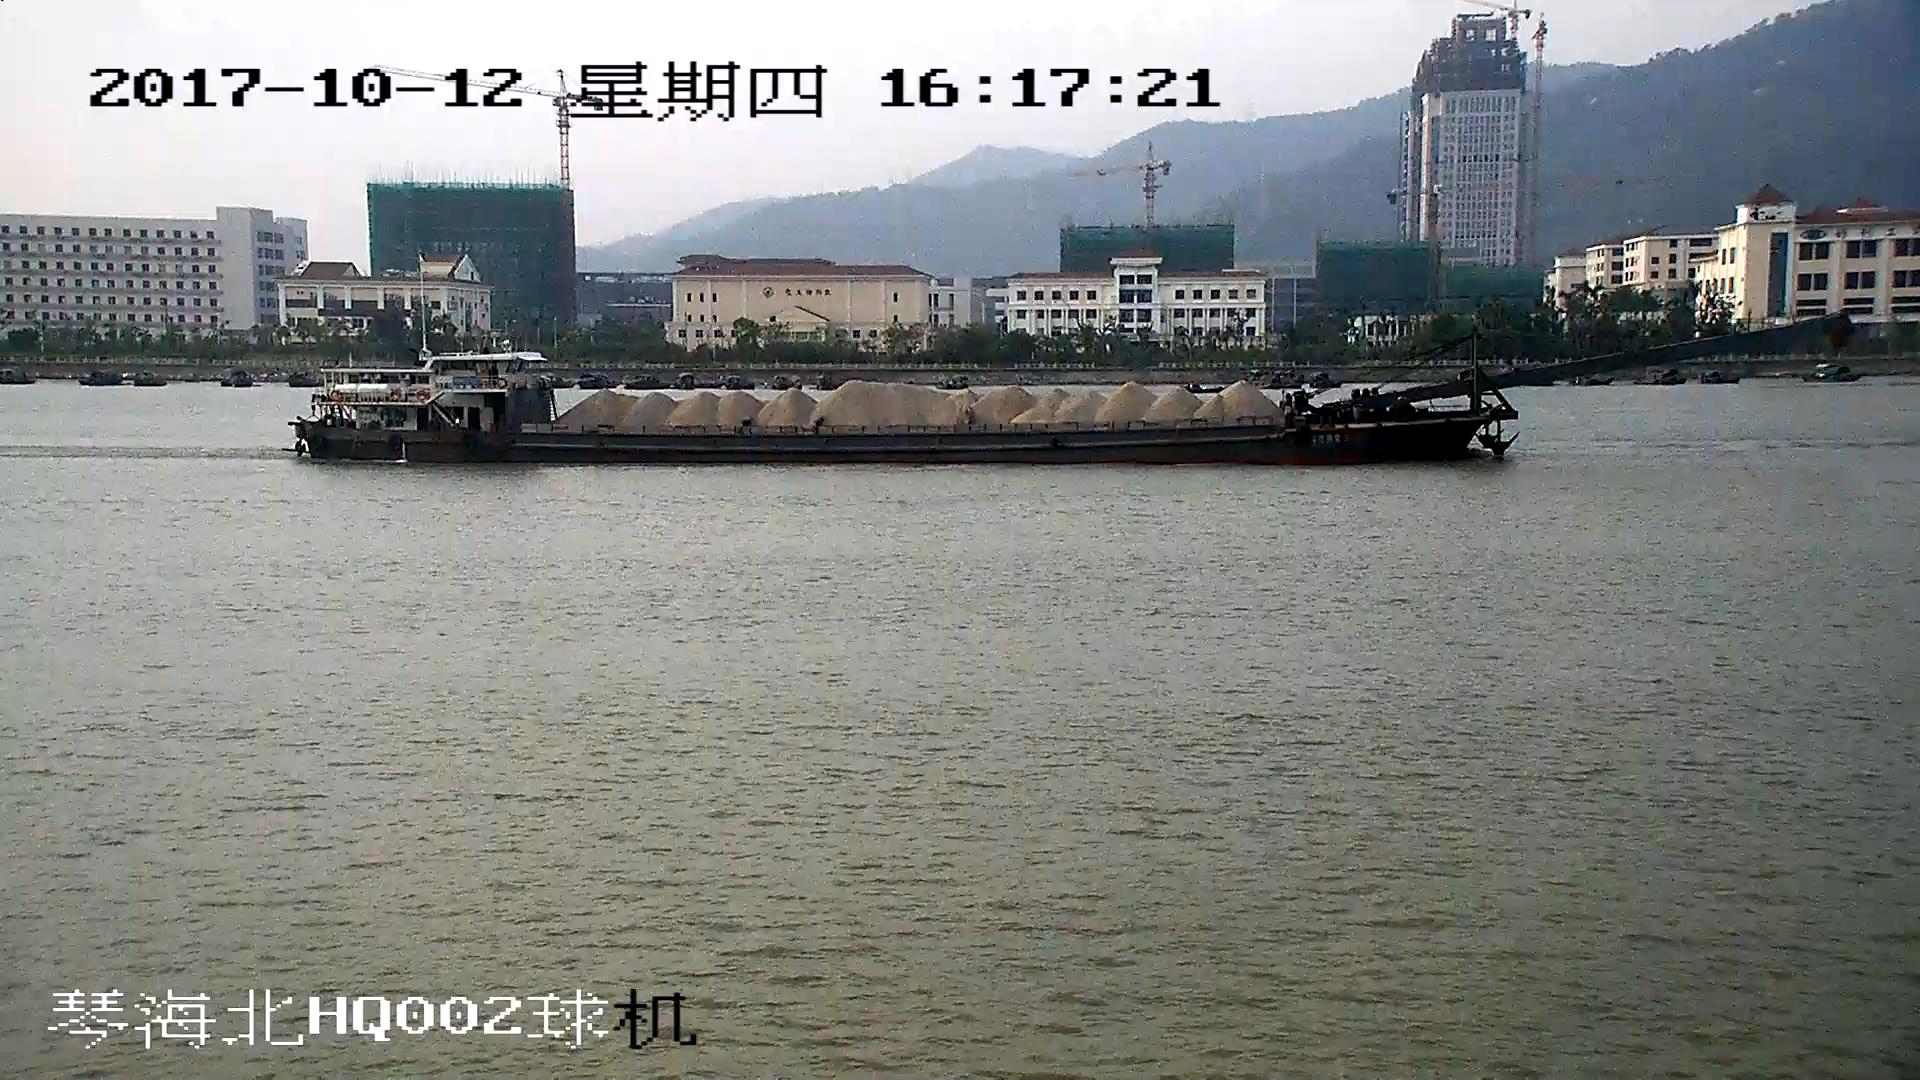ore carrier: (294, 313, 1852, 468)
